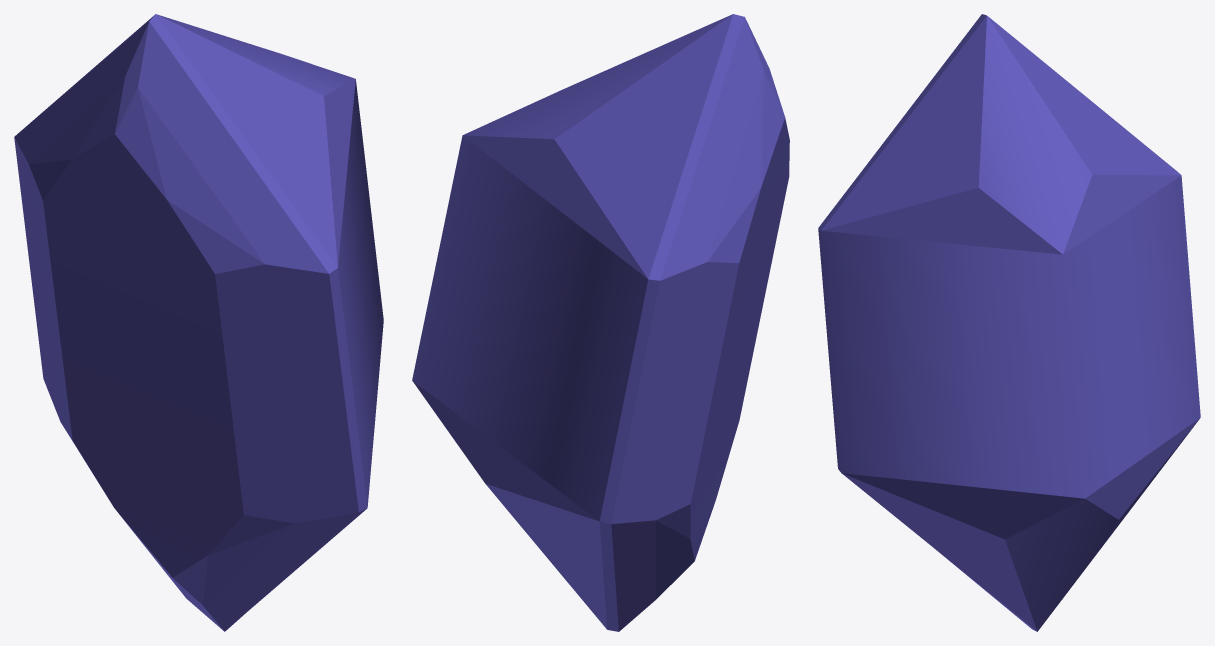
The model's file is TL5_8shapes_Hex_Classic_Stone.001 3.glb.
3 views of the same model, side by side, from view 1: azimuth 30°, elevation 25°; view 2: azimuth 150°, elevation 25°; view 3: azimuth 270°, elevation 25° (orthographic). The views are drawn at different scales.
Visible parts, largest first — view 1: TL5_8shapes_Hex_Classic_Stone.001; view 2: TL5_8shapes_Hex_Classic_Stone.001; view 3: TL5_8shapes_Hex_Classic_Stone.001.
Boxes of the visible parts, x1,y1,x2,y2 form: TL5_8shapes_Hex_Classic_Stone.001: [14, 14, 383, 631]; TL5_8shapes_Hex_Classic_Stone.001: [412, 14, 789, 631]; TL5_8shapes_Hex_Classic_Stone.001: [818, 14, 1200, 631].
Bounding box in the file's own units: 0.3539 × 0.6489 × 0.3921.
